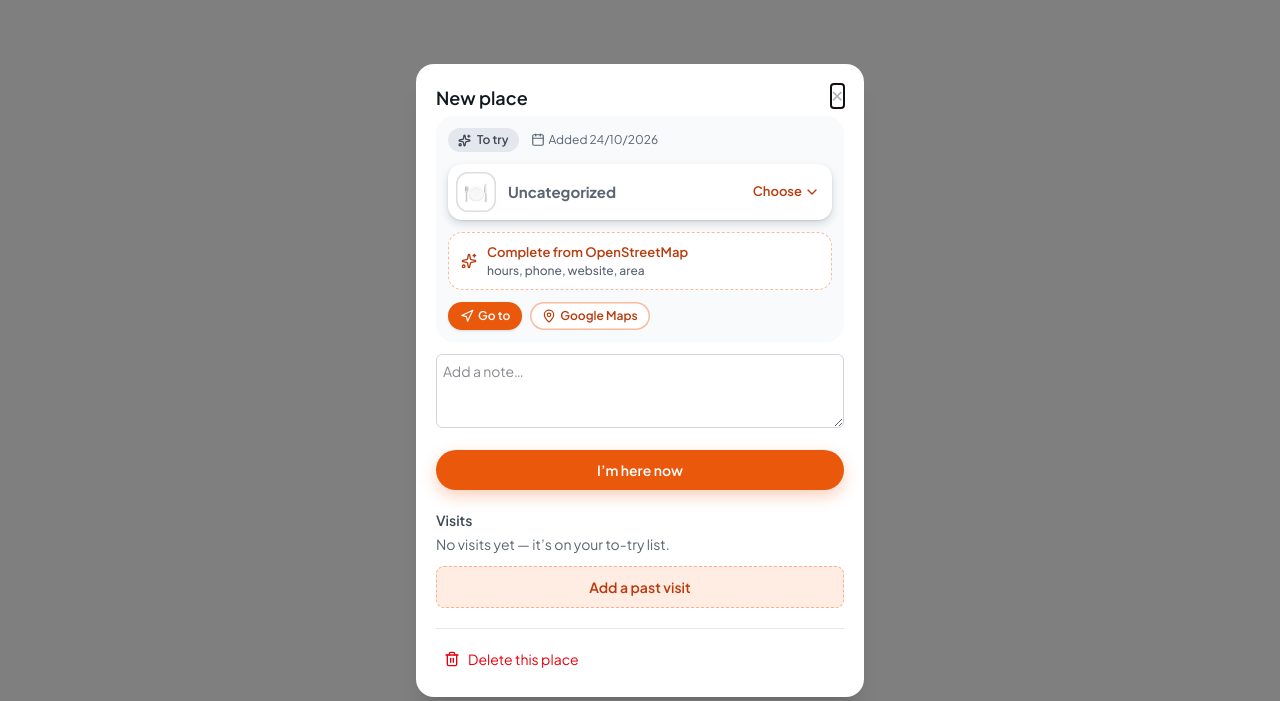
Test: RestaurantDetail › tells the user when "I'm here now" could not log the visit, and keeps the picker open
This screenshot has width=1280, height=701.
Expected: the text "To try" is shown, [477,132,508,148]
Step 1. Click the button "I’m here now" → coordinates (640, 470), box [436,450,844,490]
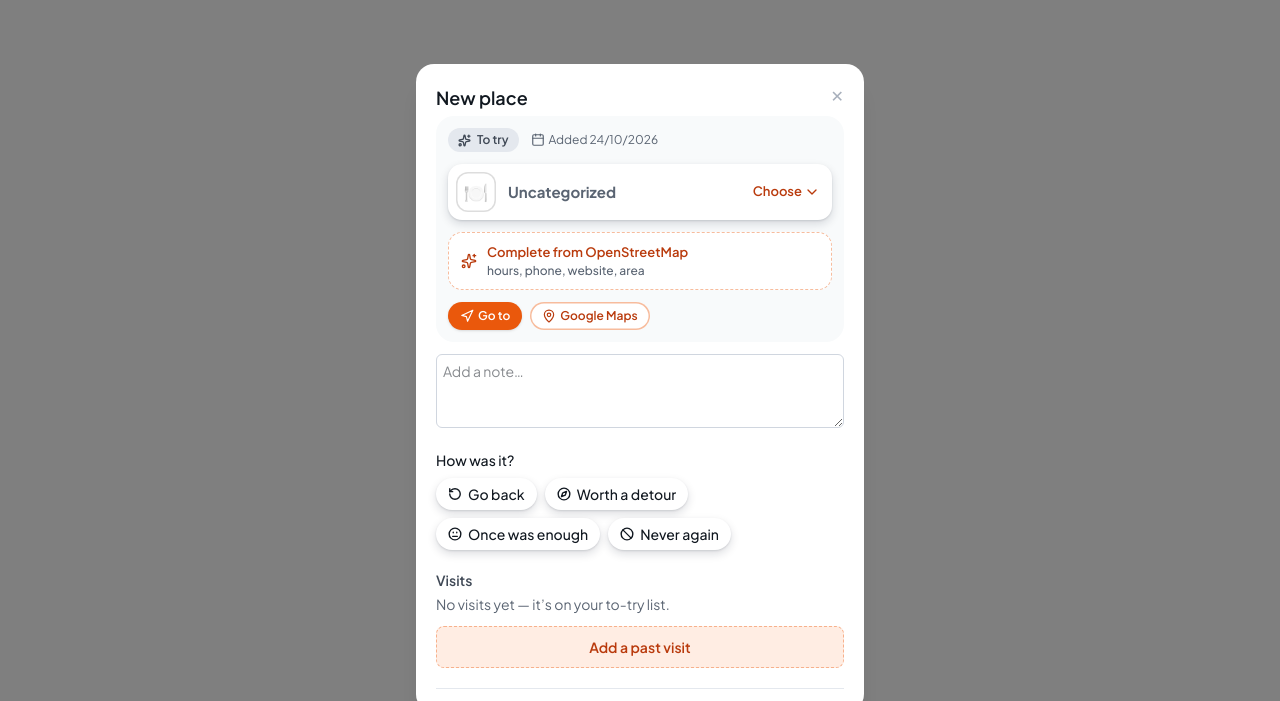
Step 2. Click the button "Go back" → coordinates (486, 494), box [436,478,537,510]
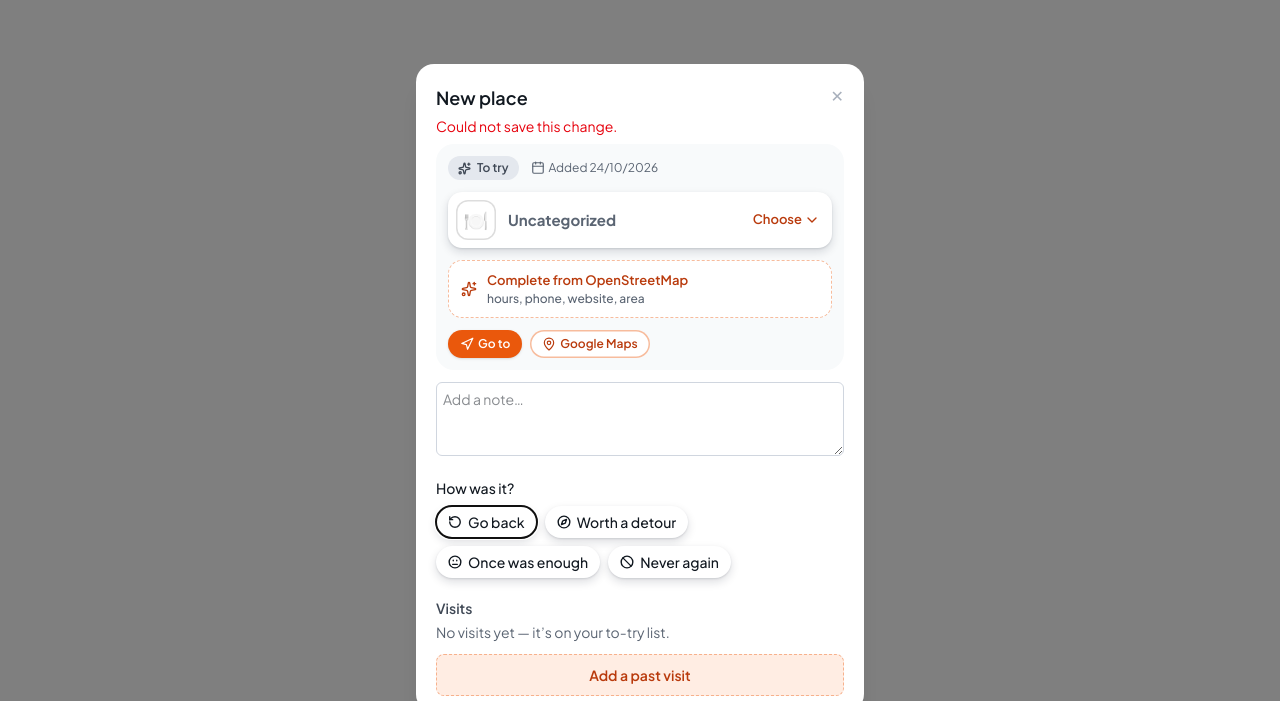
Expected: the text "How was it?" is shown, [436,478,514,496]
Expected: the message reads "Could not save this change.", [436,117,617,135]
